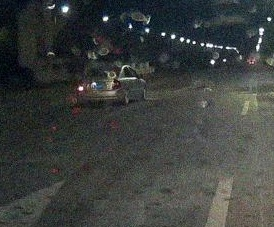L_light: (78, 81, 87, 91)
R_light: (112, 79, 120, 89)
T_light: (104, 67, 110, 69)
night-left: (78, 65, 121, 106)
